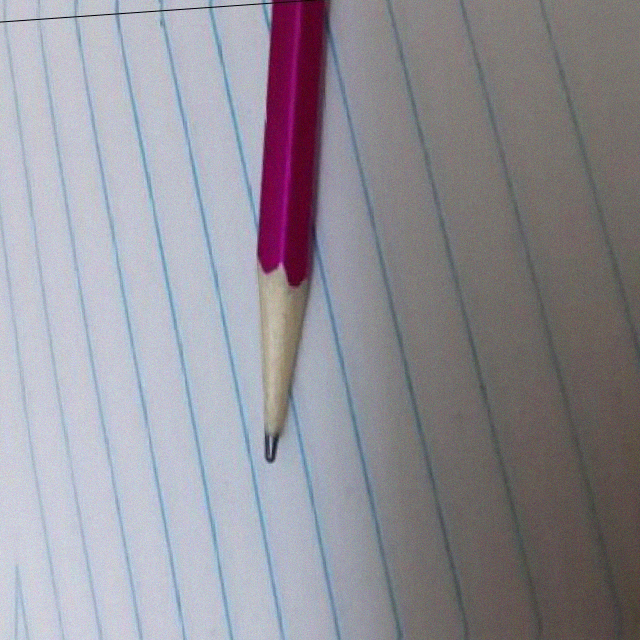pencil: (227, 255, 322, 472)
